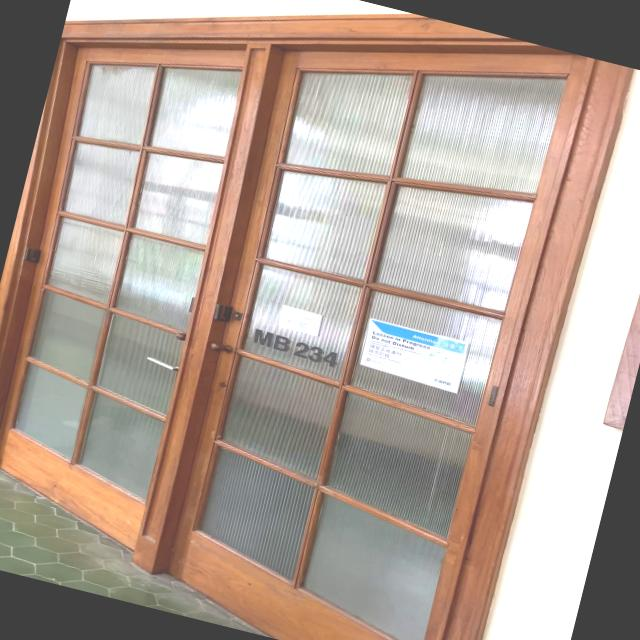room234Window: (244, 323, 346, 372)
